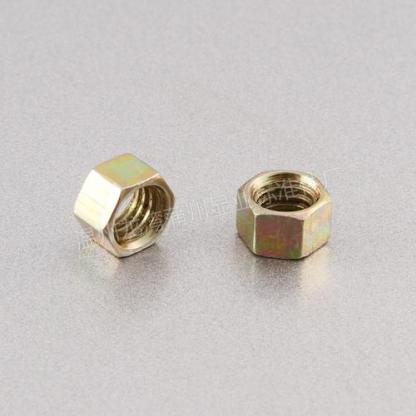FOD: (70, 150, 178, 264), (232, 166, 335, 262)
